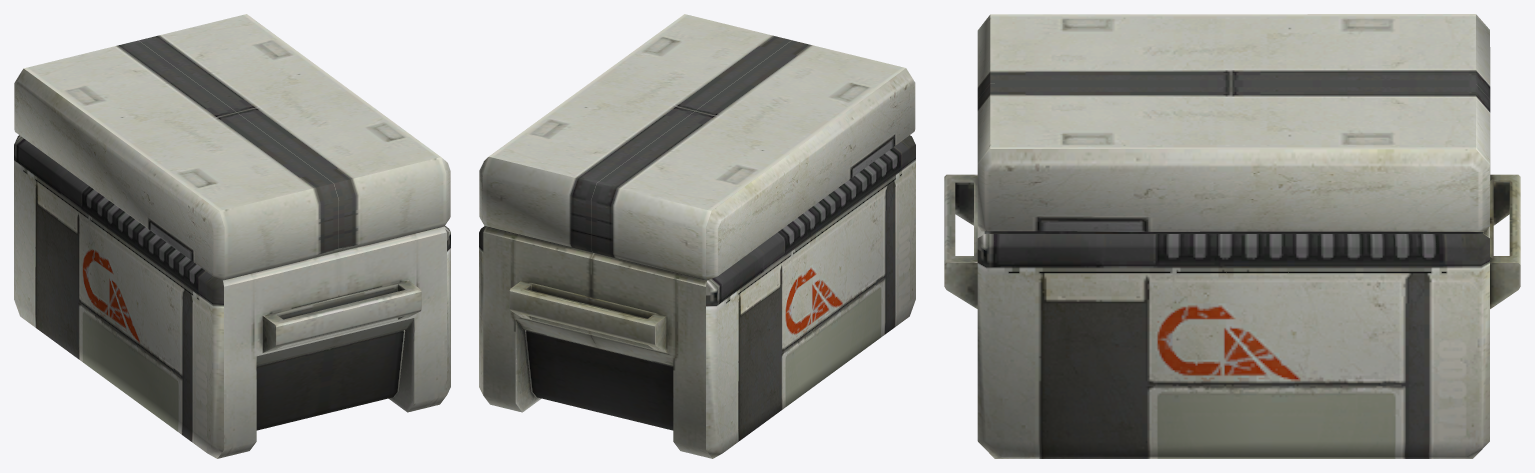
Rendered from Crate01_M.FBX.
3 views of the same model, side by side, from view 1: azimuth 30°, elevation 25°; view 2: azimuth 150°, elevation 25°; view 3: azimuth 270°, elevation 25° (orthographic). The views are drawn at different scales.
Parts seen in each view (by area): view 1: Crate01_M; view 2: Crate01_M; view 3: Crate01_M.
Boxes of the visible parts, <box> form: Crate01_M: <box>14,14,450,458</box>; Crate01_M: <box>479,14,915,458</box>; Crate01_M: <box>944,14,1520,458</box>.
Size of the model in its own units: 1 by 1 by 1.69.
